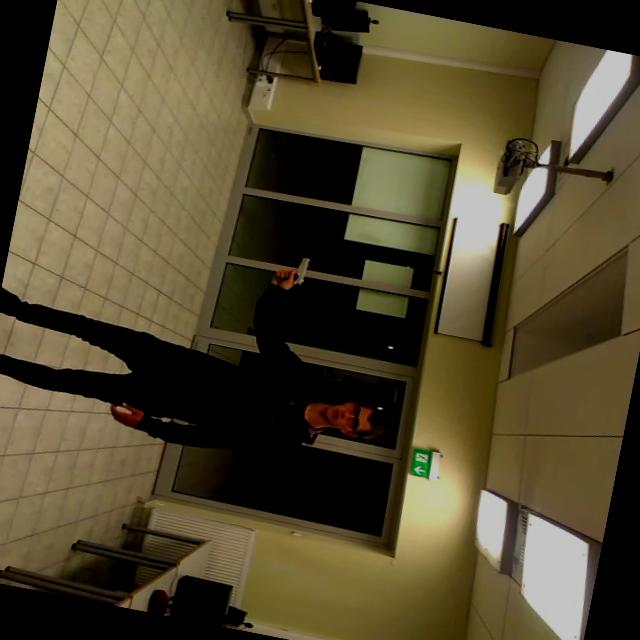handgun: (266, 246, 319, 296)
